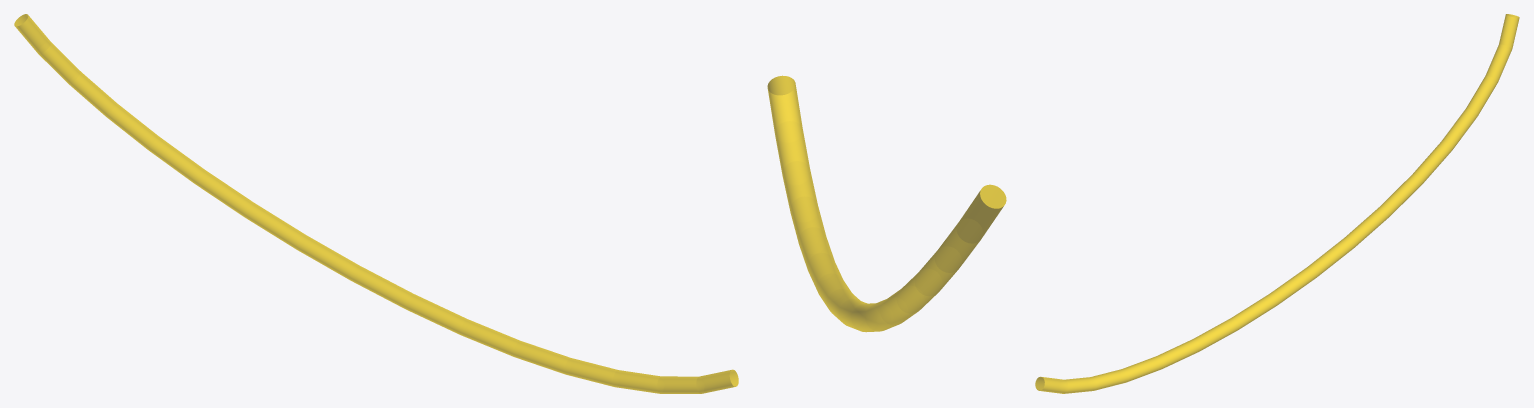
Rendered from Event_75125125_track_50.fbx.
3 views of the same model, side by side, from view 1: azimuth 30°, elevation 25°; view 2: azimuth 150°, elevation 25°; view 3: azimuth 270°, elevation 25° (orthographic). The views are drawn at different scales.
Visible parts, largest first — view 1: Model; view 2: Model; view 3: Model.
Boxes of the visible parts, bbox=[...] form: Model: bbox=[14, 14, 738, 393]; Model: bbox=[767, 75, 1006, 332]; Model: bbox=[1035, 14, 1519, 393].
Size of the model in its own units: 1.14 by 0.7099 by 1.36.
